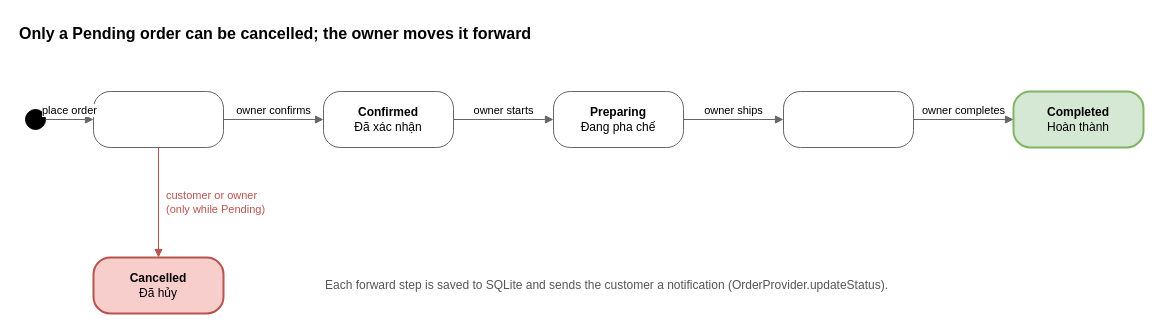
The diagram is 1161 pixels wide and 331 high, and some of its shapes have lost their labels. The box of each missing label's shape, as (x1, y1, x2, y2) in pixels:
Delivering Đang giao: (782, 90, 914, 148)
Pending Chờ xác nhận: (92, 90, 224, 148)
